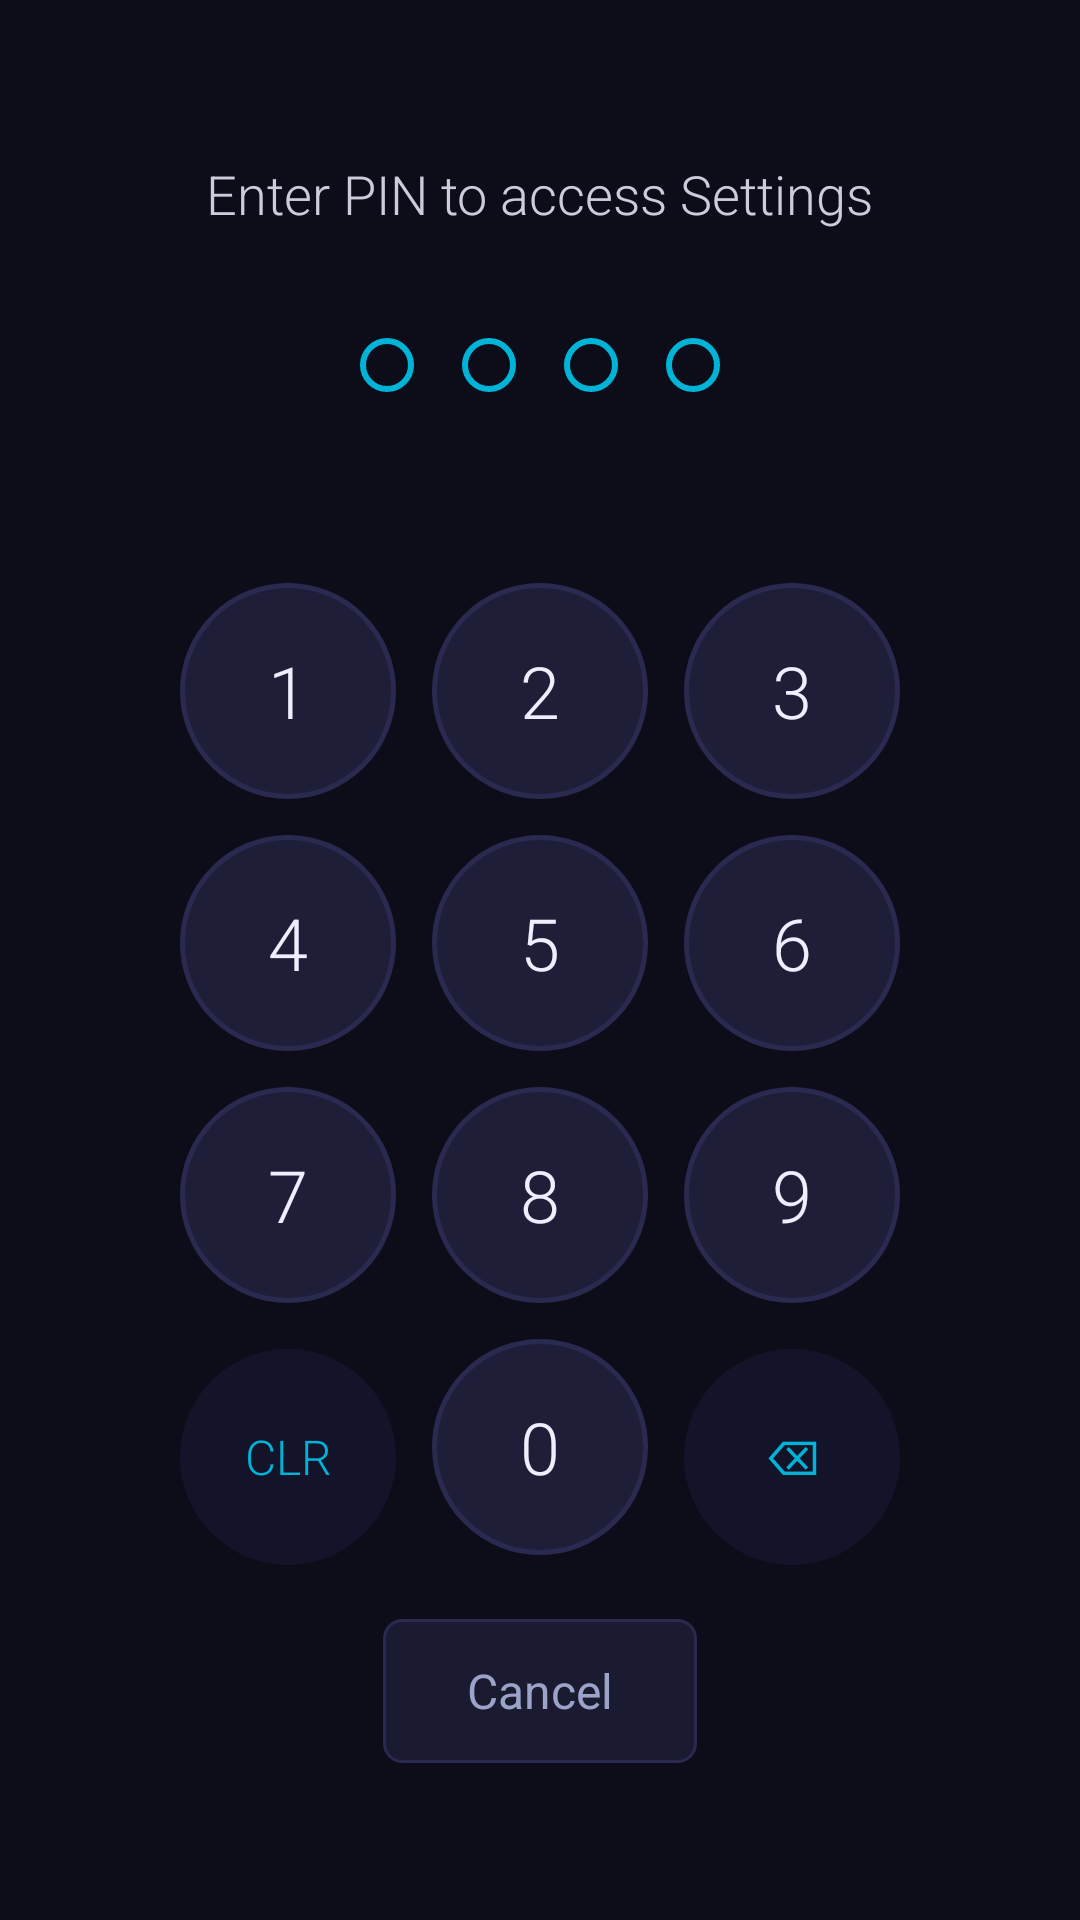

Icon click points for this 1080x1920 phone screenshot, format (x,y):
dot empty: (387,365), (489,365), (591,365), (693,365)
